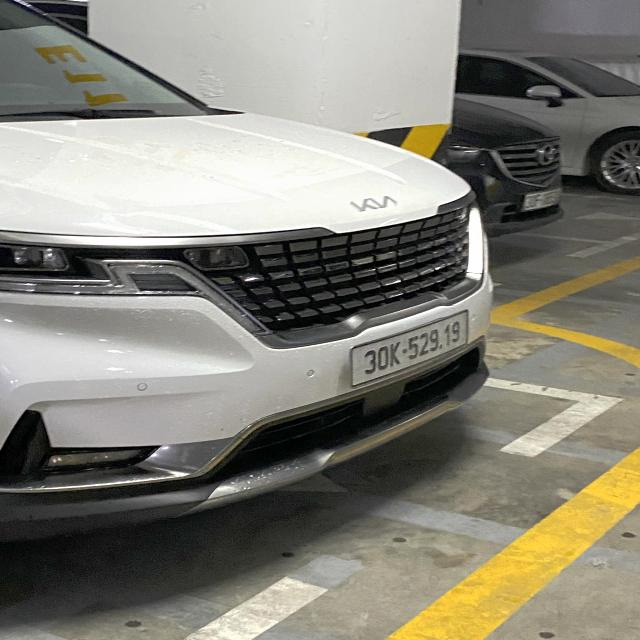license_plate: (344, 305, 478, 396)
